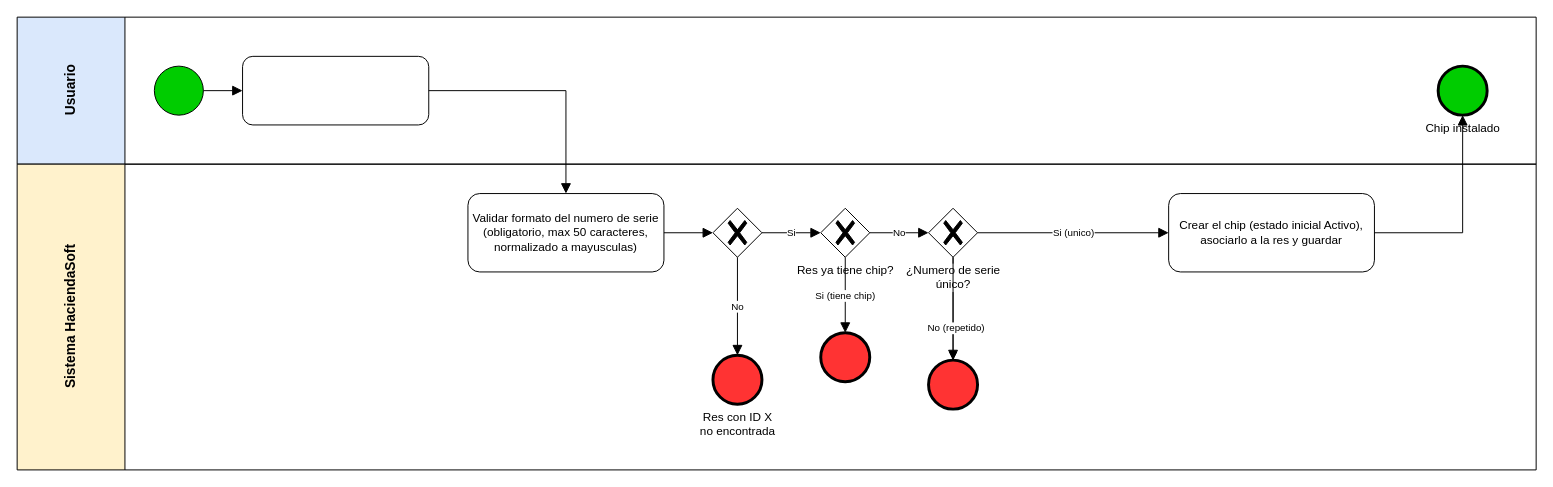
Some shapes in this 1553 by 487 pixel diagram are drawn without their labels. The centre of each missing label's shape, as x and y in pixels:
La res ya tiene un chip instalado (SN): (845,357)
Res existe?: (737,232)
Seleccionar la res e ingresar el numero de serie: (335,90)
Ya existe un chip con el numero de serie X: (953,384)
